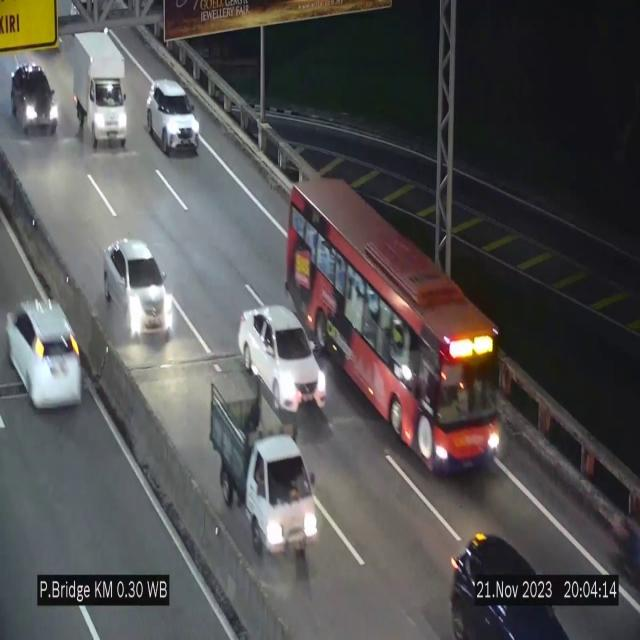Bus: (287, 179, 501, 479)
Car: (439, 519, 568, 640), (5, 285, 90, 417), (238, 305, 326, 414), (103, 239, 175, 340), (9, 60, 61, 138), (147, 80, 200, 155)
Truck: (210, 369, 320, 560), (69, 30, 127, 147)
